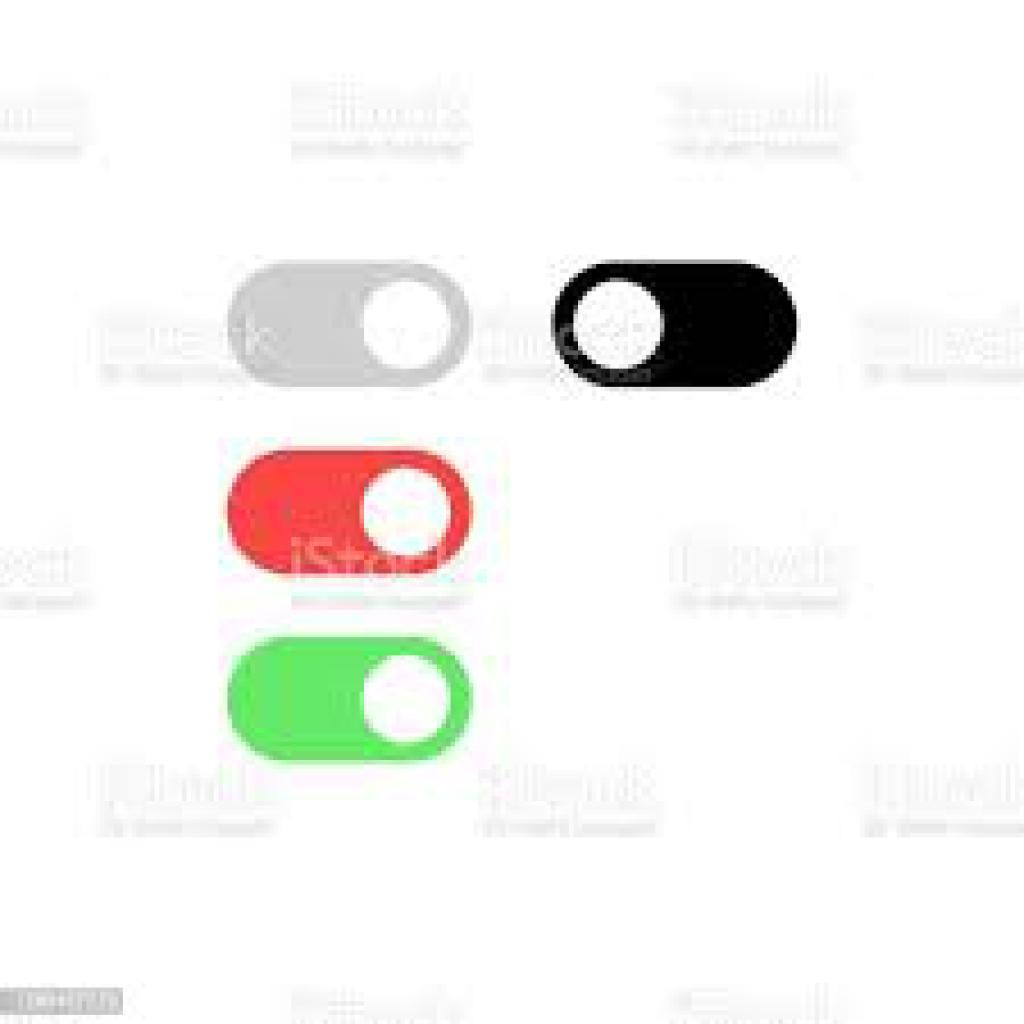switch: (227, 451, 476, 578), (229, 639, 472, 768), (230, 261, 474, 388), (554, 262, 797, 389)
